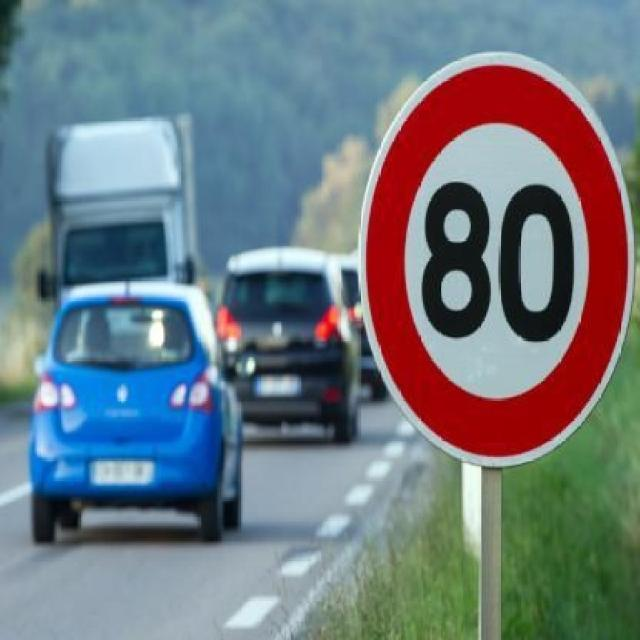forb_speed_over_80: (364, 56, 633, 470)
